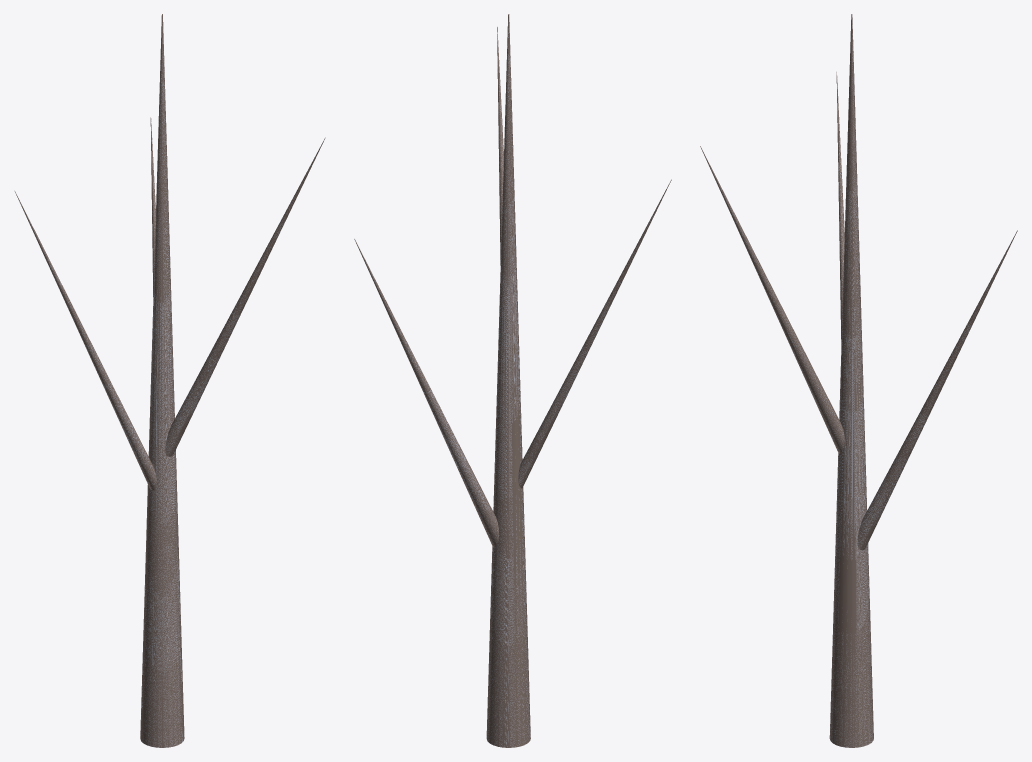
Rendered from trunk.dae.
3 renders of one model, left to right at view 1: azimuth 30°, elevation 25°; view 2: azimuth 150°, elevation 25°; view 3: azimuth 270°, elevation 25°, orthographic.
Visible parts, largest first — view 1: instance_1, instance_0, instance_2; view 2: instance_1, instance_3, instance_2, instance_0; view 3: instance_1, instance_3, instance_0, instance_2.
Part boxes in pixels (x1,y1,x2,y2): instance_1: [140, 14, 184, 747]; instance_0: [165, 137, 325, 456]; instance_2: [14, 190, 156, 490]; instance_1: [486, 14, 530, 747]; instance_3: [354, 239, 499, 547]; instance_2: [518, 179, 671, 488]; instance_0: [497, 27, 503, 265]; instance_1: [829, 14, 873, 747]; instance_3: [857, 230, 1017, 550]; instance_0: [700, 146, 844, 453]; instance_2: [836, 71, 844, 343].
Size of the model in its own units: 0.1825 by 0.2067 by 0.52.
